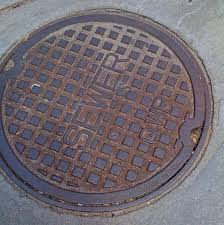manhole: (1, 2, 221, 221)
